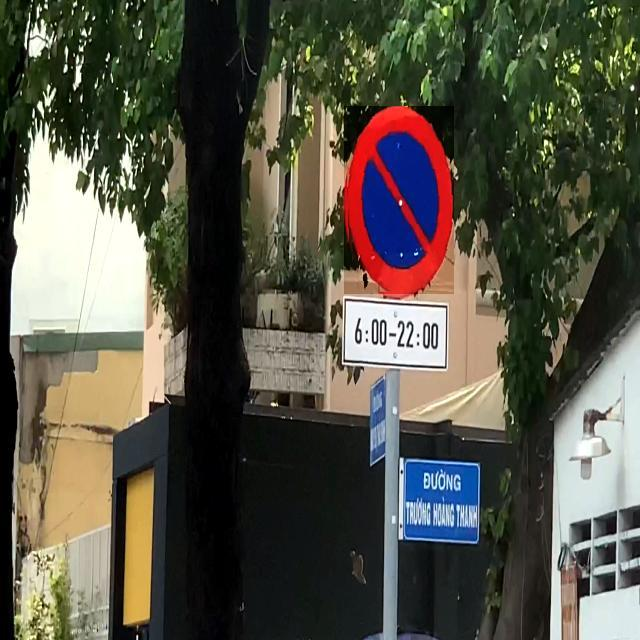P-131a: (344, 106, 454, 294)
